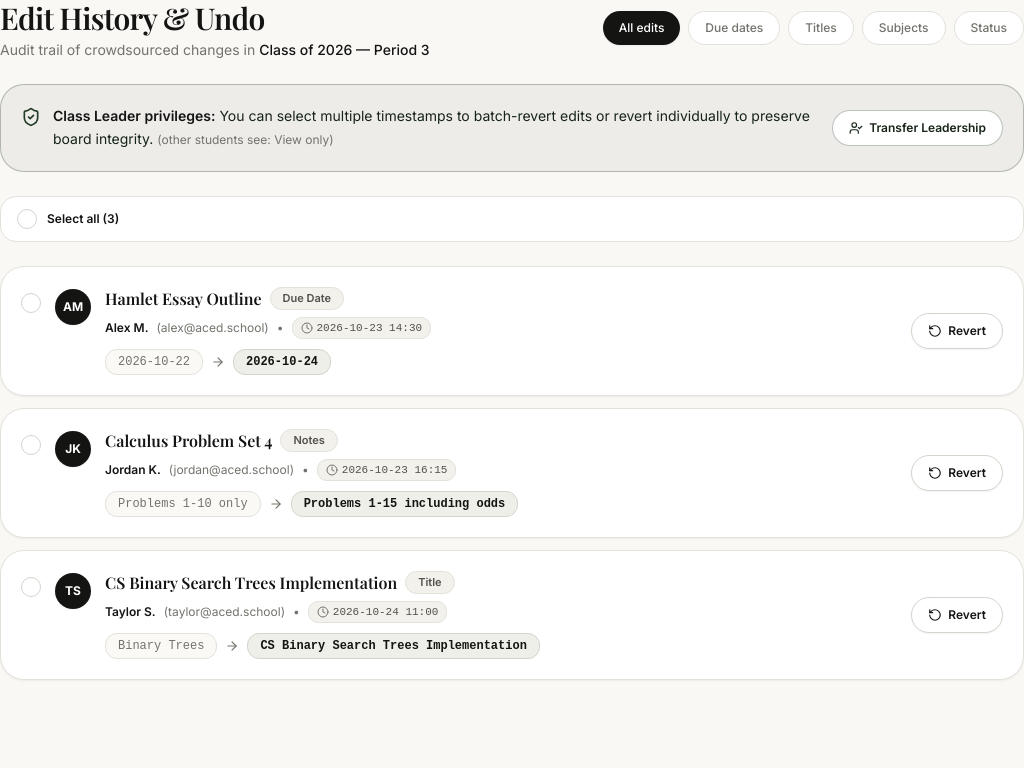
Scenario: HistoryScreen Component › allows class leader to select multiple timestamps and batch revert them
The image size is (1024, 768).
Expected: the heading "Calculus Problem Set 4" is shown, x1=105 y1=428 x2=272 y2=452
Expected: the checkbox named "select all revertible edits" is shown, x1=17 y1=208 x2=119 y2=228
Click the checkbox named "select edit at" at (31, 302), box x1=21 y1=292 x2=41 y2=312
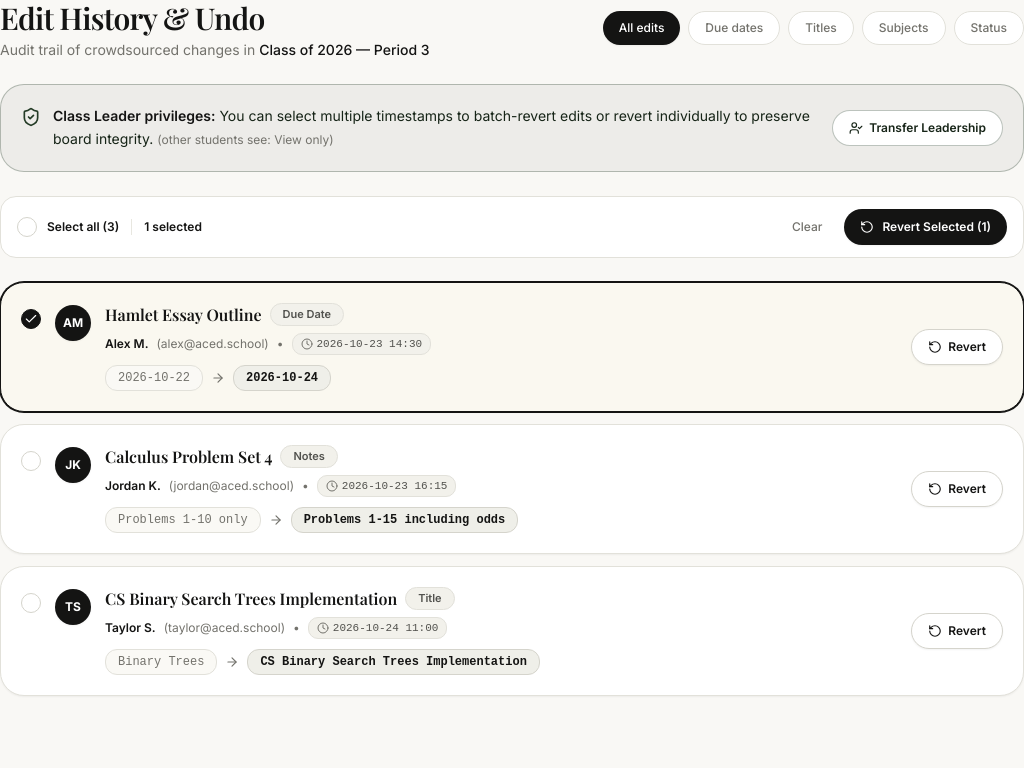
Click the checkbox named "select edit at" at (31, 460), box x1=21 y1=450 x2=41 y2=470
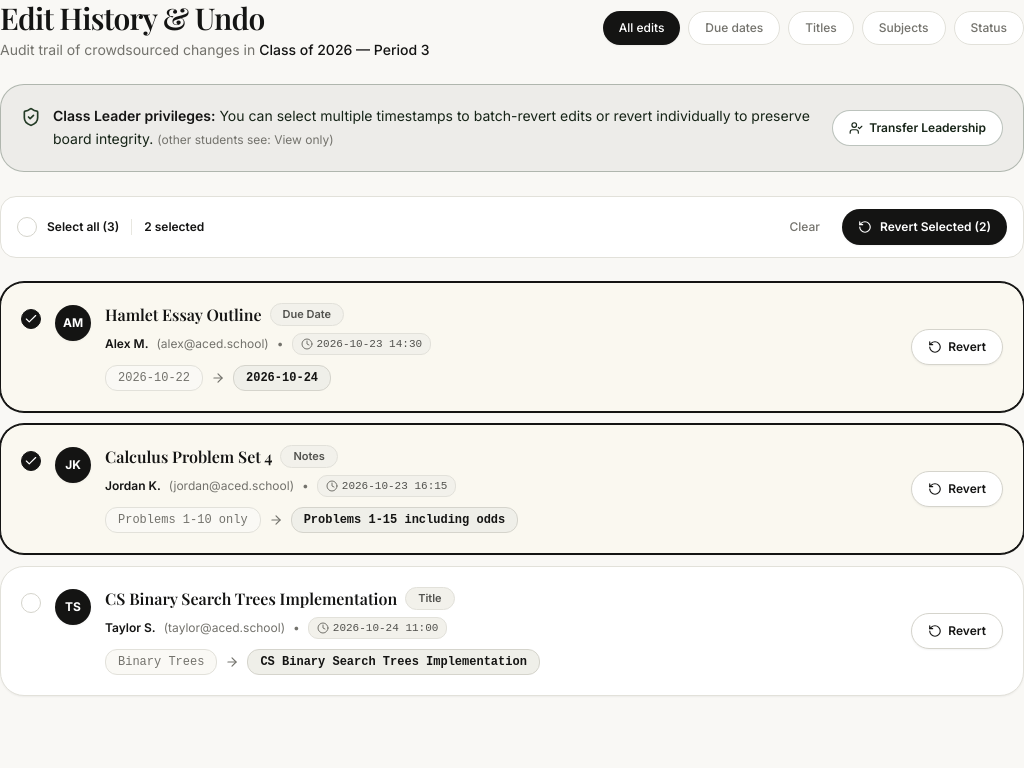
Result: the text "2 selected" is shown at x1=144 y1=218 x2=204 y2=234
Result: the button "Revert Selected (2)" is shown
# Open batch revert modal
Click the button "Revert Selected (2)" at (924, 226), box x1=842 y1=208 x2=1007 y2=244
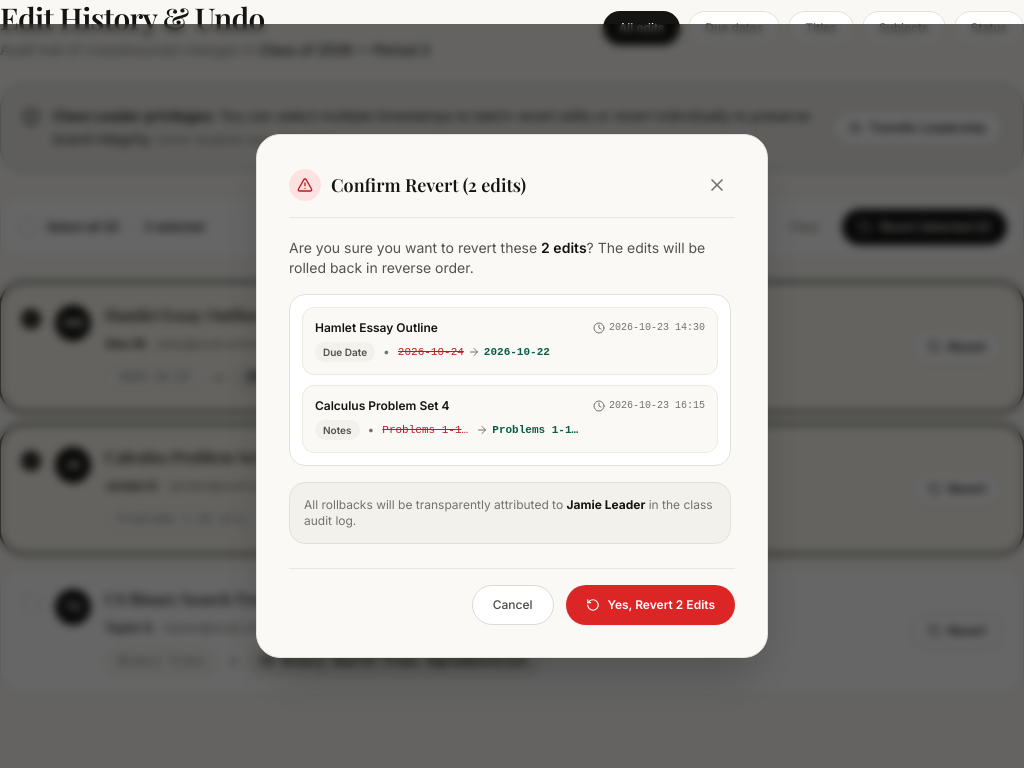
Result: the dialog is shown
Result: the heading "Confirm Revert (2 edits)" is shown at x1=331 y1=171 x2=526 y2=199
Click the button "Yes, Revert 2 Edits" at (650, 605), box x1=566 y1=585 x2=735 y2=625
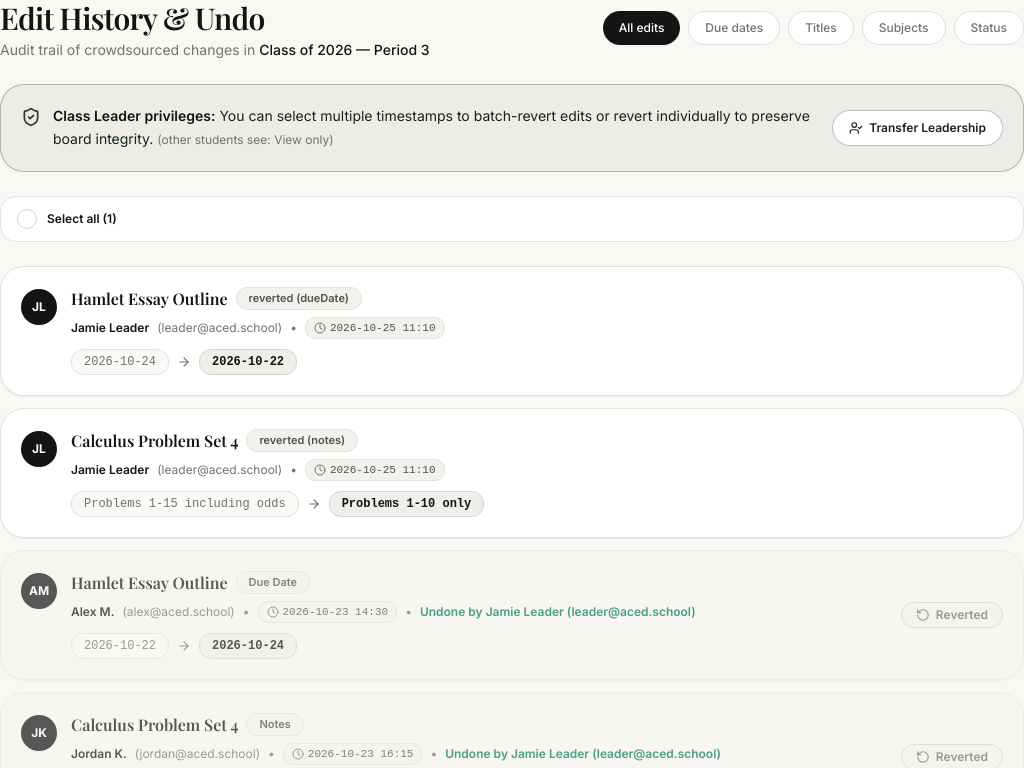
Result: the dialog is gone
